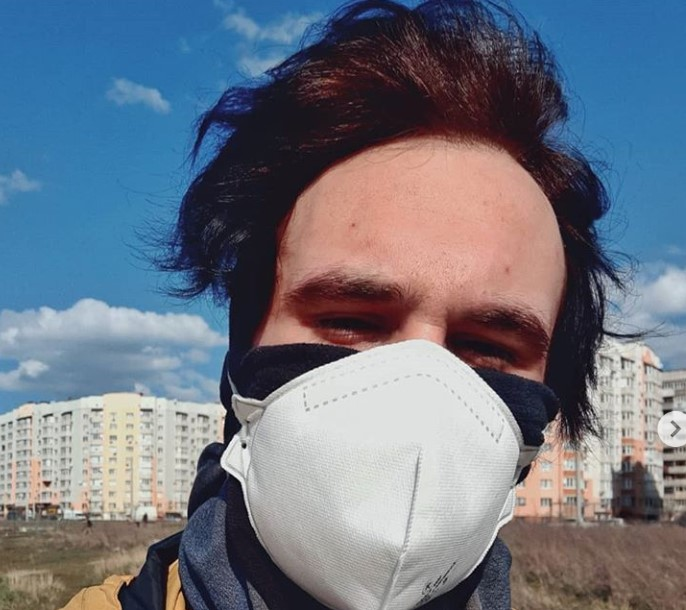face_with_mask: (221, 106, 583, 607)
